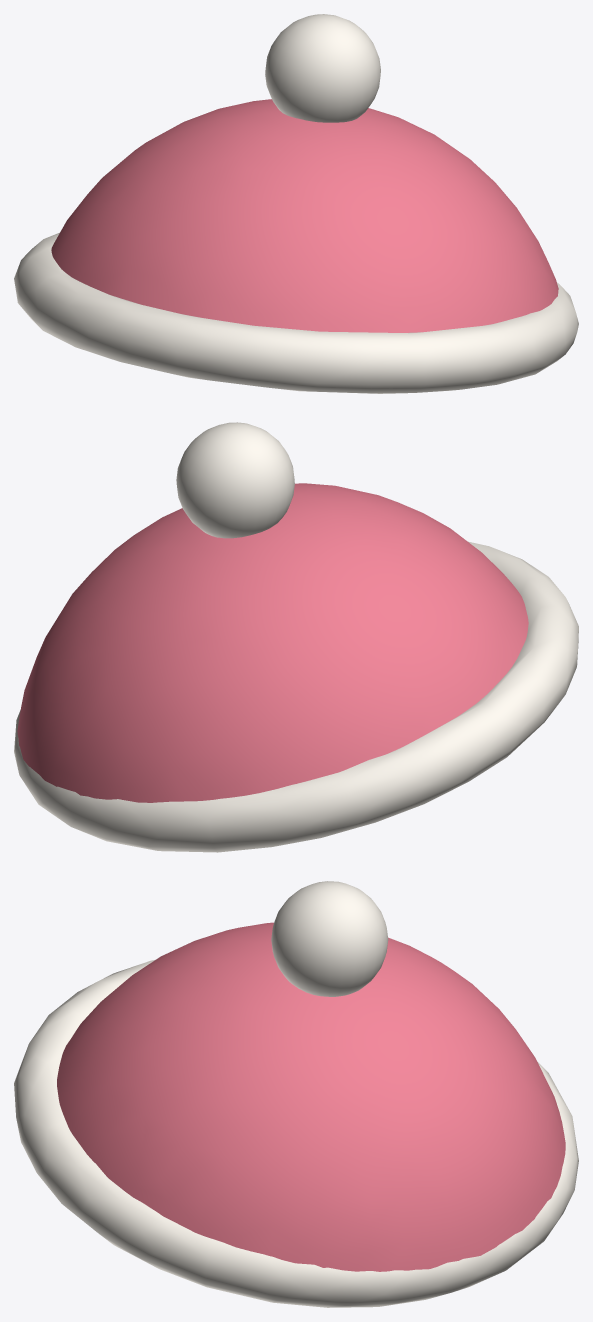
File: beanie.glb
3 views of the same model, one above another, from view 1: azimuth 30°, elevation 25°; view 2: azimuth 150°, elevation 25°; view 3: azimuth 270°, elevation 25° (orthographic). The views are drawn at different scales.
Visible parts, largest first — view 1: Beanie, Torus, Pom; view 2: Beanie, Torus, Pom; view 3: Beanie, Torus, Pom.
Boxes of the visible parts, x1,y1,x2,y2 form: Beanie: (51, 99, 558, 332); Torus: (14, 232, 578, 393); Pom: (265, 14, 380, 122); Beanie: (17, 483, 528, 802); Torus: (14, 541, 578, 852); Pom: (176, 422, 294, 538); Beanie: (57, 922, 565, 1271); Torus: (14, 960, 578, 1307); Pom: (271, 881, 388, 996).
Bounding box in the file's own units: 1.34 × 0.9029 × 1.35.
